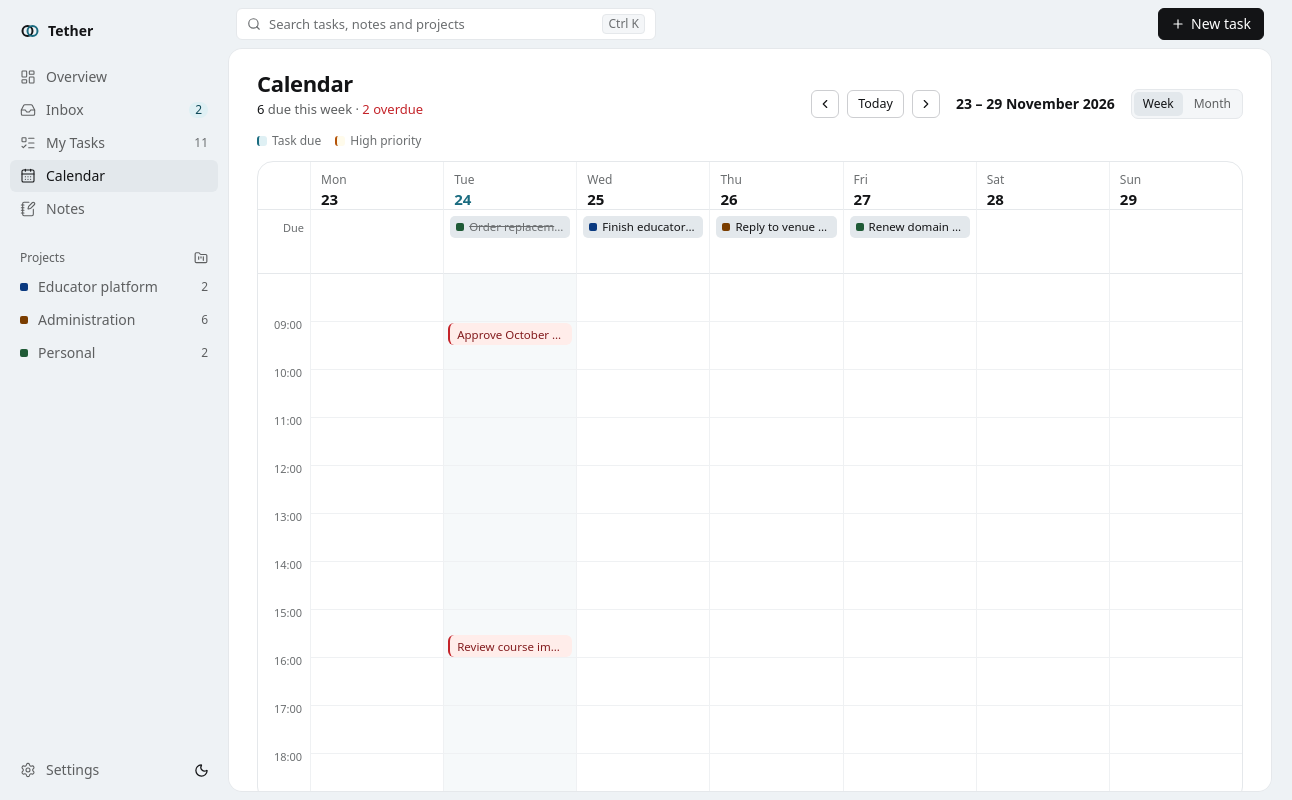
Calendar › Month shows the day cells
Expected: the button named "Next week" is shown, [912,90,940,118]
Click the button "Month": (1212, 104) [1185,92,1240,116]
(page scrolled)
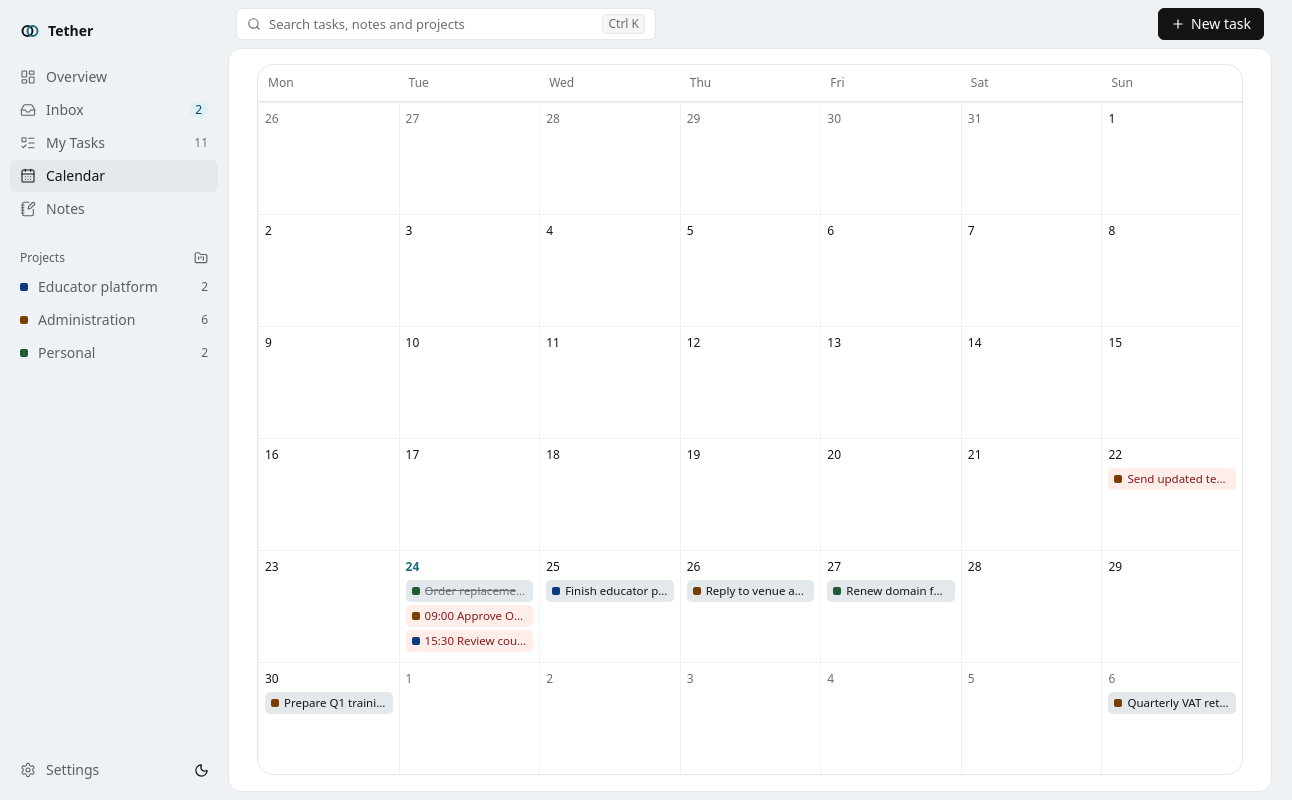
Expected: the element named "Month" is shown
